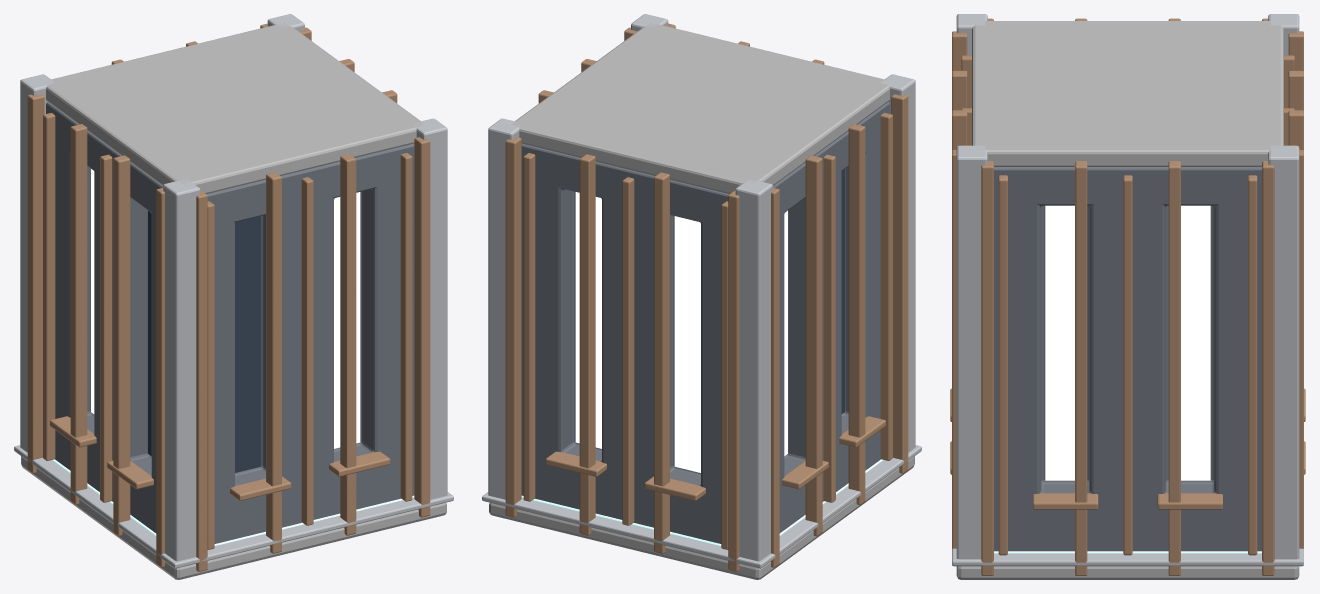
File: deco_2x2.glb
3 views of the same model, side by side, from view 1: azimuth 30°, elevation 25°; view 2: azimuth 150°, elevation 25°; view 3: azimuth 270°, elevation 25° (orthographic). The views are drawn at different scales.
Visible parts, largest first — view 1: ext_wall, ext_ribs, int_ceiling, ext_frames, int_columns, ext_panes_dark, int_slab_edge, int_slab, ext_panes_lit, int_grid; view 2: ext_wall, ext_ribs, int_ceiling, ext_frames, int_columns, ext_panes_lit, int_slab_edge, int_slab, ext_panes_dark, int_grid; view 3: ext_wall, int_ceiling, ext_ribs, int_columns, ext_panes_lit, ext_frames, int_slab, int_slab_edge, int_grid.
Part boxes in pixels (x1,y1,x2,y2): ext_wall: (46, 102, 414, 543); ext_ribs: (27, 23, 430, 571); int_ceiling: (43, 23, 423, 193); ext_frames: (43, 112, 412, 549); int_columns: (20, 14, 447, 561); ext_panes_dark: (148, 210, 261, 472); int_slab_edge: (14, 445, 453, 568); int_slab: (21, 456, 446, 579); ext_panes_lit: (91, 169, 360, 448); int_grid: (52, 459, 414, 545); ext_wall: (521, 102, 889, 543); ext_ribs: (505, 23, 908, 571); int_ceiling: (511, 23, 889, 193); ext_frames: (523, 112, 892, 549); int_columns: (488, 14, 915, 561); ext_panes_lit: (575, 192, 787, 472); int_slab_edge: (482, 445, 921, 568); int_slab: (489, 456, 914, 579); ext_panes_dark: (841, 169, 844, 413); int_grid: (521, 459, 883, 545); ext_wall: (994, 167, 1261, 551); int_ceiling: (972, 21, 1283, 166); ext_ribs: (952, 18, 1303, 575); int_columns: (956, 14, 1299, 559); ext_panes_lit: (1045, 205, 1210, 480); ext_frames: (950, 55, 1305, 555); int_slab: (956, 566, 1299, 579); int_slab_edge: (952, 548, 1303, 566); int_grid: (994, 551, 1261, 553).
Bounding box in the file's own units: 2.28 × 3 × 2.28.
